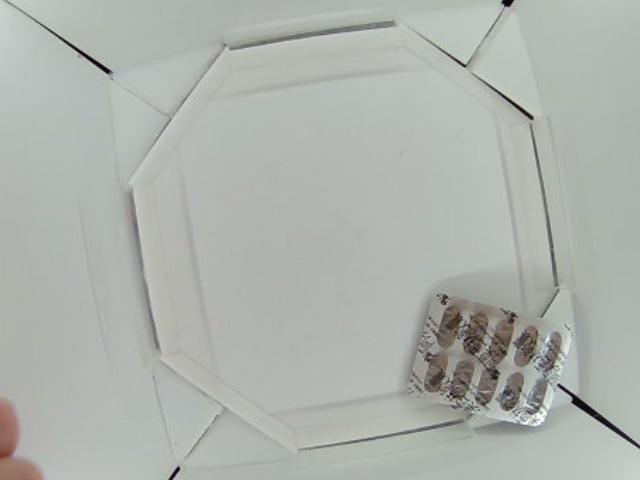Medicine: (403, 291, 570, 429)
